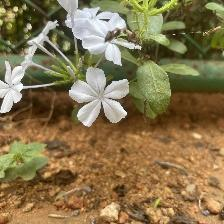chitrak: (70, 63, 133, 129), (1, 58, 27, 116)
